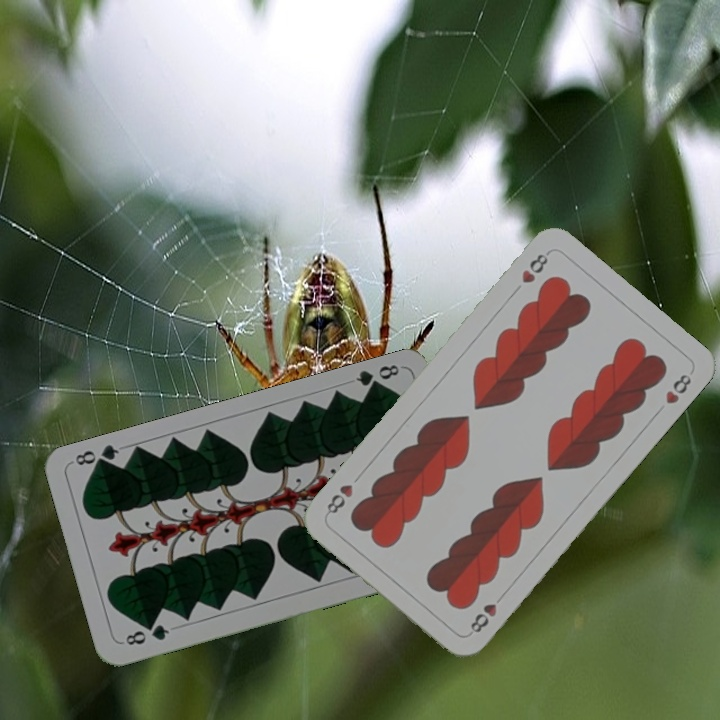G8: (352, 360, 402, 395), (121, 620, 172, 648)
H8: (517, 247, 553, 286), (466, 599, 500, 636)
